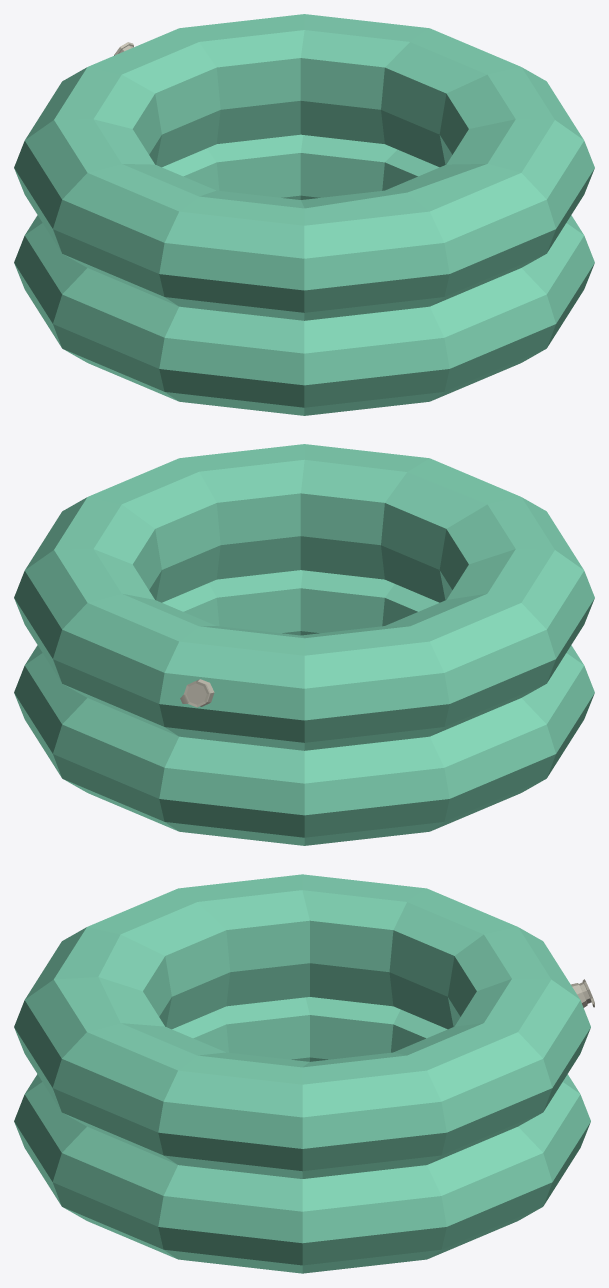
The model's file is garden_pool.fbx.
3 renders of one model, top to bottom at view 1: azimuth 30°, elevation 25°; view 2: azimuth 150°, elevation 25°; view 3: azimuth 270°, elevation 25°, orthographic.
Parts seen in each view (by area): view 1: pTorus4; view 2: pTorus4; view 3: pTorus4.
Part boxes in pixels (x1,y1,x2,y2): pTorus4: (14, 14, 594, 415); pTorus4: (14, 444, 594, 845); pTorus4: (14, 874, 594, 1273).
Size of the model in its own units: 4.04 by 1.49 by 4.07.
